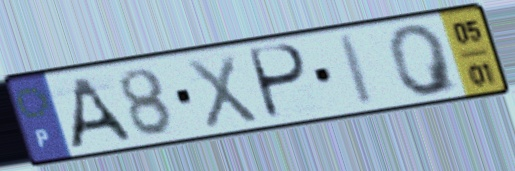8: (115, 66, 177, 140)
A: (67, 73, 136, 152)
I: (334, 30, 379, 109)
P: (247, 41, 311, 123)
Q: (384, 20, 464, 99)
X: (182, 50, 263, 133)
